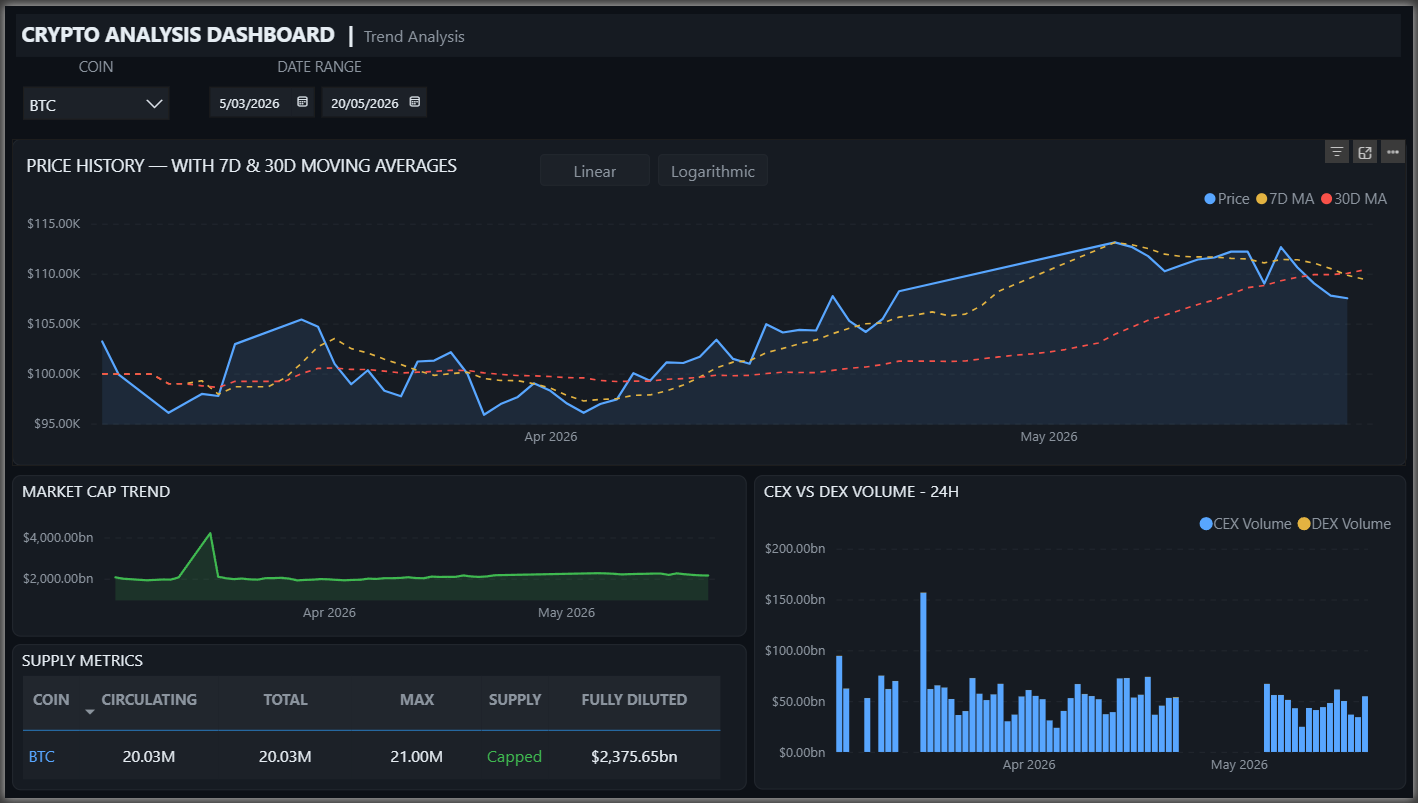

This screenshot's page, from the dashboard's own definition file:
{"tool":"powerbi","page":{"name":"Trend Analysis","canvas":[1280,720],"ordinal":2},"visuals":[{"type":"slicer","title":"COIN","fields":{"Values":["dim_coin.symbol"]},"box":[6,46,153,68],"z":0},{"type":"slicer","title":"DATE RANGE","fields":{"Values":["dim_date.Date"]},"box":[173,46,226,67],"z":1000},{"type":"lineChart","title":"PRICE HISTORY — WITH 7D & 30D MOVING AVERAGES","fields":{"Y":["_Measures.Latest Price","_Measures.MA Price 7D","_Measures.MA Price 30D"],"Category":["dim_date.Date"]},"box":[6,121,1268,297],"z":2000},{"type":"areaChart","title":"MARKET CAP TREND","fields":{"Y":["Sum(fact_coin_prices.aud_market_cap)"],"Category":["dim_date.Date"]},"box":[6,426,668,147],"z":4000},{"type":"columnChart","title":"CEX VS DEX VOLUME - 24H","fields":{"Category":["dim_date.Date"],"Y":["Sum(fact_coin_prices.aud_cex_volume_24h)","Sum(fact_coin_prices.aud_dex_volume_24h)"]},"box":[681,426,593,286],"z":5000},{"type":"tableEx","title":"SUPPLY METRICS","fields":{"Values":["dim_coin.symbol","Max(fact_coin_prices.circulating_supply)","Max(fact_coin_prices.total_supply)","Max(dim_coin.max_supply)","dim_coin.Infinite Supply Label","Max(fact_coin_prices.aud_fully_diluted_market_cap)"]},"box":[6,580,668,133],"z":6000},{"type":"actionButton","box":[593.9,134.3,100,29.2],"z":7000},{"type":"actionButton","box":[486.4,134.3,100,29.2],"z":8000},{"type":"textbox","box":[10,7,1259,39],"z":9000}]}

Visuals, with their boxes in screenshot pixels (x1, y1, x2, y2), scaled from the page's 1280x720 canvas onto the 1418x803 screenshot:
"COIN" slicer: detection(7, 51, 176, 127)
"DATE RANGE" slicer: detection(192, 51, 442, 126)
"PRICE HISTORY — WITH 7D & 30D MOVING AVERAGES" lineChart: detection(7, 135, 1411, 466)
"MARKET CAP TREND" areaChart: detection(7, 475, 747, 639)
"CEX VS DEX VOLUME - 24H" columnChart: detection(754, 475, 1411, 794)
"SUPPLY METRICS" tableEx: detection(7, 647, 747, 795)
actionButton: detection(658, 150, 769, 182)
actionButton: detection(539, 150, 650, 182)
textbox: detection(11, 8, 1406, 51)
